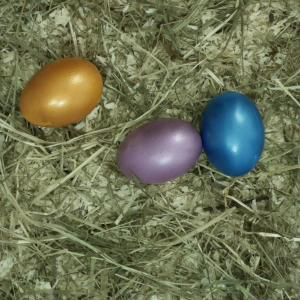egg: (21, 59, 104, 127), (116, 120, 203, 184), (202, 92, 265, 178)
